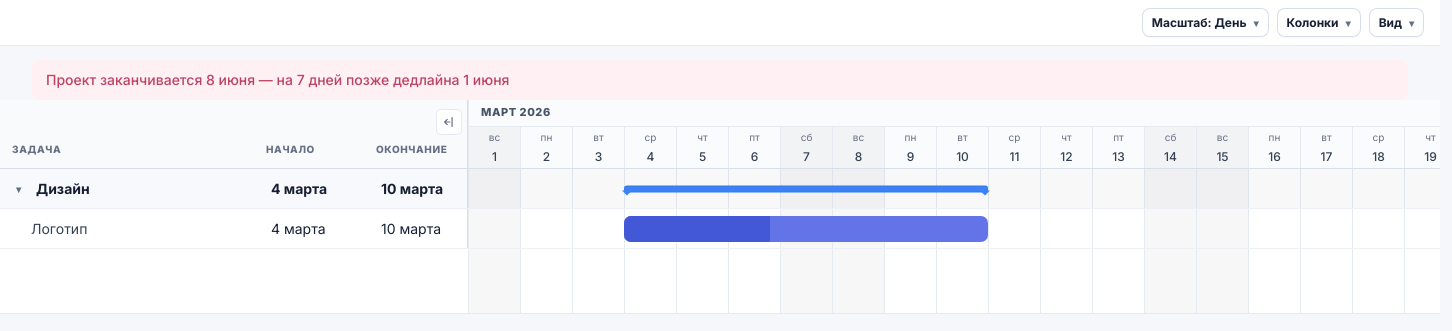
Scenario: свёртка таблицы › прячет колонки и отдаёт их место шкале
Click the button named "Свернуть таблицу задач".
click(449, 122)  # box [436,109,462,135]
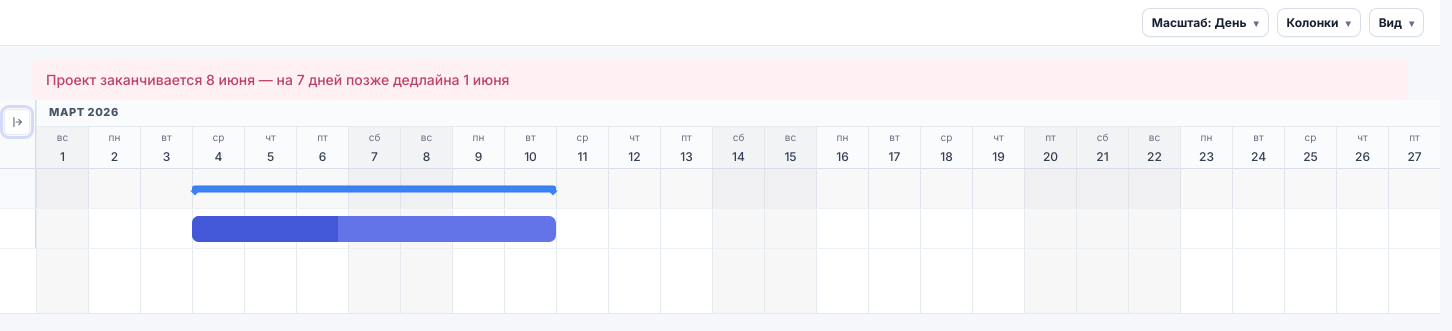
Expected: the picture named "Логотип" is shown, [192,216,556,242]
Expected: the text "Логотип" is gone
Expected: the text "Начало" is gone
